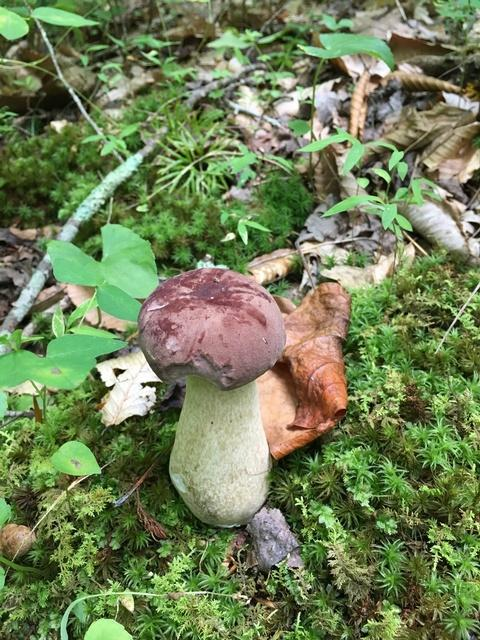Non-edible Mushroom: (135, 265, 287, 528)
